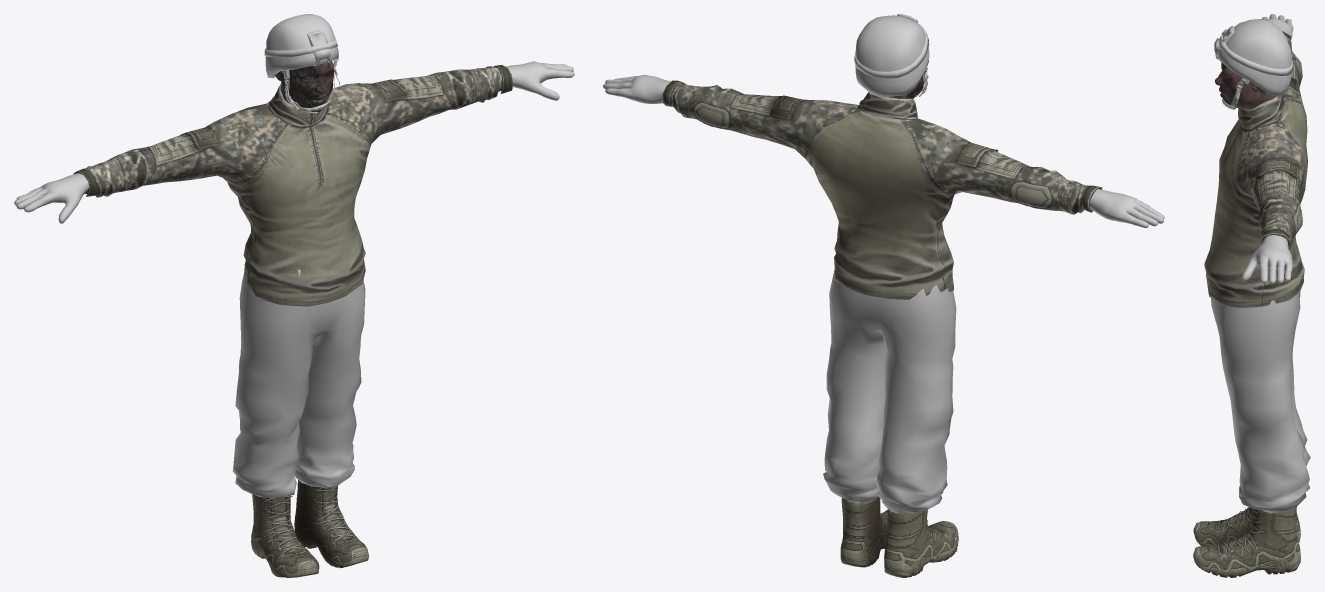
Rendered from WarZombie.obj.
The picture shows the model from 3 angles, left to right: view 1: azimuth 30°, elevation 25°; view 2: azimuth 150°, elevation 25°; view 3: azimuth 270°, elevation 25°; orthographic projection.
Visible parts, largest first — view 1: Tops, Bottoms, Shoes, Hats, Gloves, Body; view 2: Tops, Bottoms, Shoes, Hats, Gloves; view 3: Tops, Bottoms, Shoes, Hats, Gloves, Body.
Part boxes in pixels (bbox=[...]): Tops: bbox=[73, 65, 512, 306]; Bottoms: bbox=[232, 269, 365, 497]; Shoes: bbox=[251, 480, 368, 577]; Hats: bbox=[264, 14, 339, 113]; Gloves: bbox=[14, 61, 574, 223]; Body: bbox=[275, 60, 333, 112]; Tops: bbox=[662, 80, 1102, 299]; Bottoms: bbox=[823, 270, 956, 513]; Shoes: bbox=[840, 497, 958, 577]; Hats: bbox=[854, 14, 929, 97]; Gloves: bbox=[603, 75, 1164, 228]; Tops: bbox=[1204, 31, 1307, 307]; Bottoms: bbox=[1211, 291, 1310, 513]; Shoes: bbox=[1193, 506, 1300, 577]; Hats: bbox=[1214, 19, 1293, 109]; Gloves: bbox=[1242, 14, 1293, 284]; Body: bbox=[1215, 62, 1275, 109].
Bounding box in the file's own units: 200 × 185 × 36.9.
